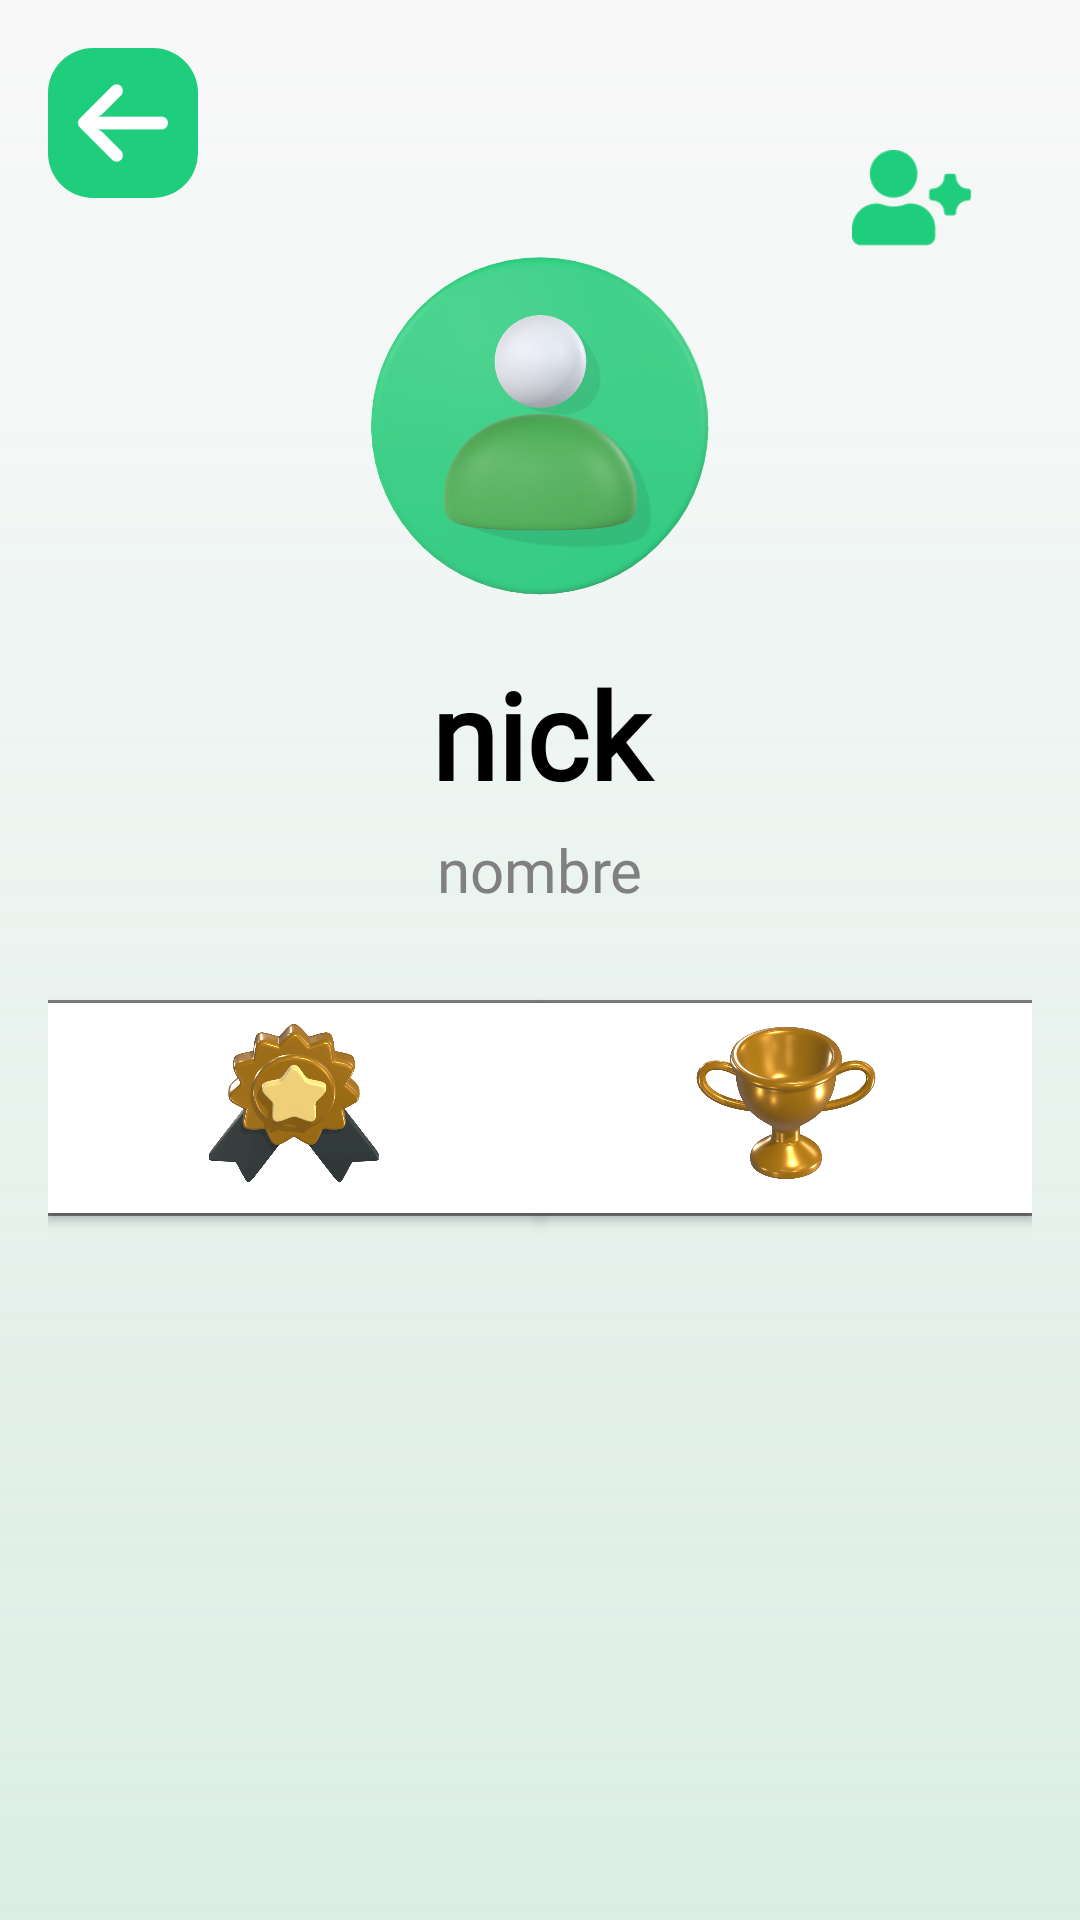

Screen size 1080px×1920px. Icon name, then its center in pixels as (x,y):
flecha izquierda: (123,123)
perfil: (540,426)
